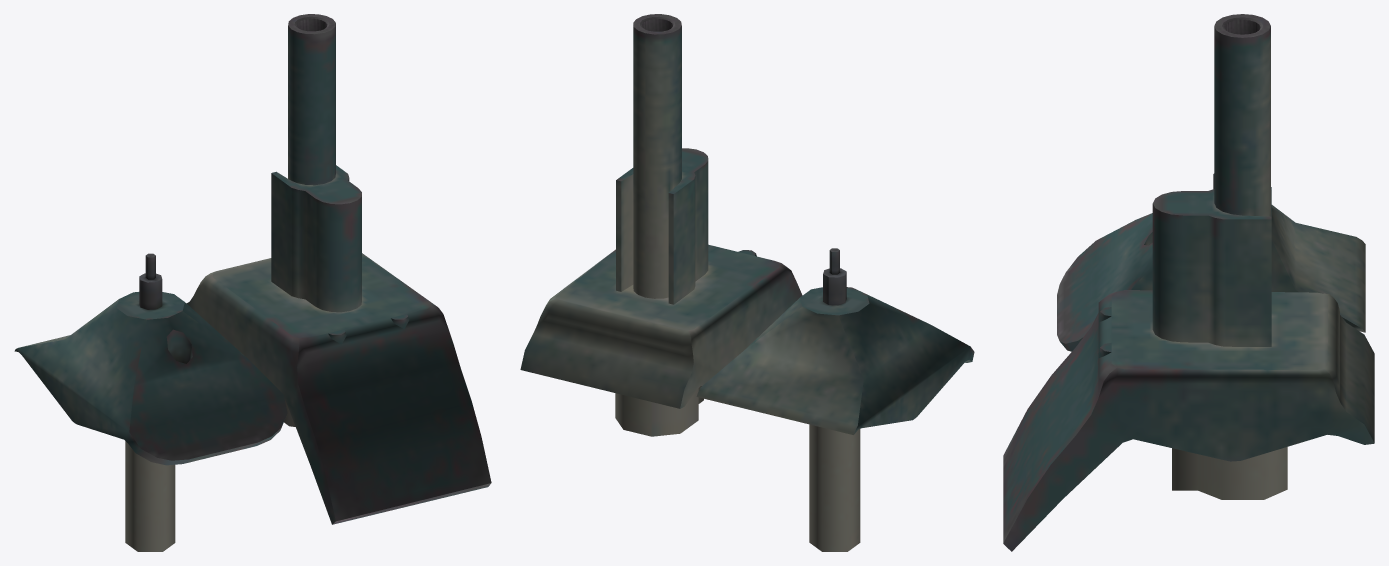
The model's file is Gun_01.glb.
3 views of the same model, side by side, from view 1: azimuth 30°, elevation 25°; view 2: azimuth 150°, elevation 25°; view 3: azimuth 270°, elevation 25° (orthographic). The views are drawn at different scales.
Parts seen in each view (by area): view 1: set_0_group_0; view 2: set_0_group_0; view 3: set_0_group_0.
Part boxes in pixels (<box>): set_0_group_0: <box>14,14,491,551</box>; set_0_group_0: <box>520,14,974,551</box>; set_0_group_0: <box>1003,14,1374,551</box>.
Bounding box in the file's own units: 0.5708 × 0.797 × 0.4834.
1 material, 1 textured.
